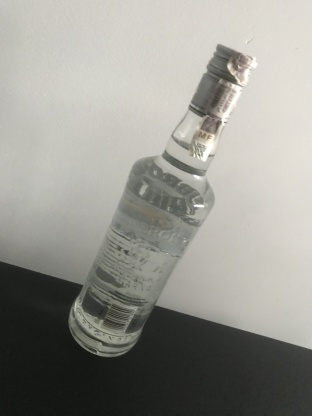nakretka: (187, 41, 258, 128)
